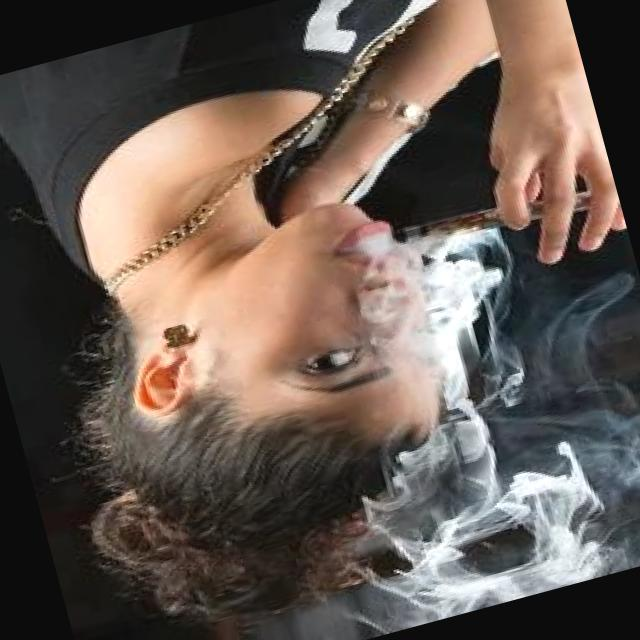smoke: (376, 166, 622, 271)
